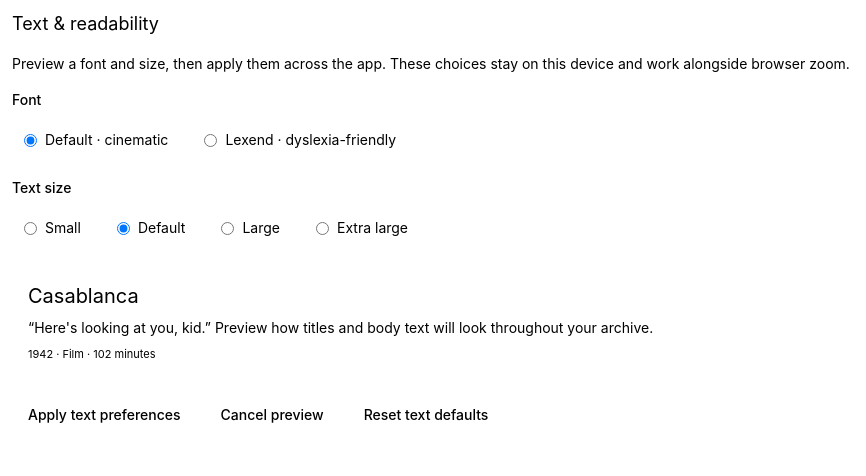
Scenario: text preference preview › scopes a draft to the preview and cancels without persisting
Click the radio button labelled "Lexend · dyslexia-friendly" at (211,140), box [204, 134, 217, 146]
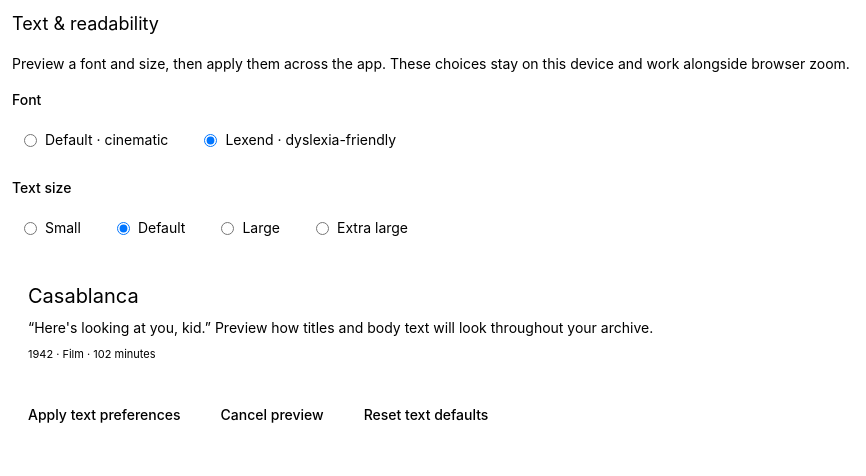
Click the radio button labelled "Extra large" at (322,228), box [316, 222, 329, 234]
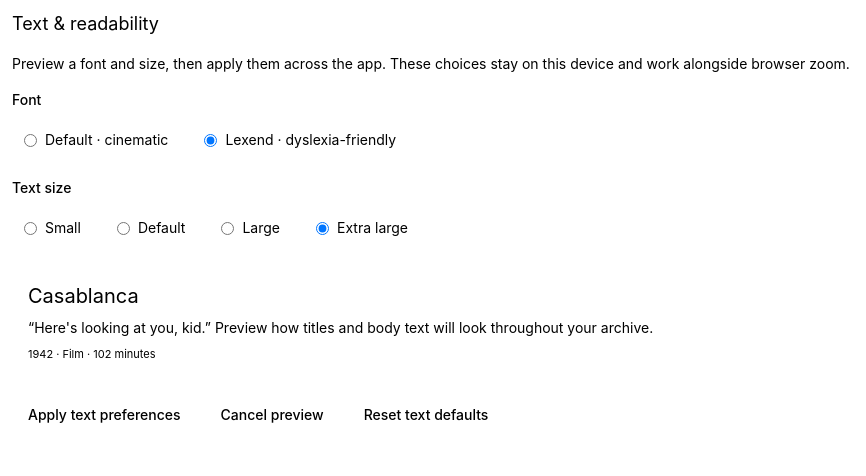
Click the button "Cancel preview" at (272,414), box [205, 394, 340, 434]
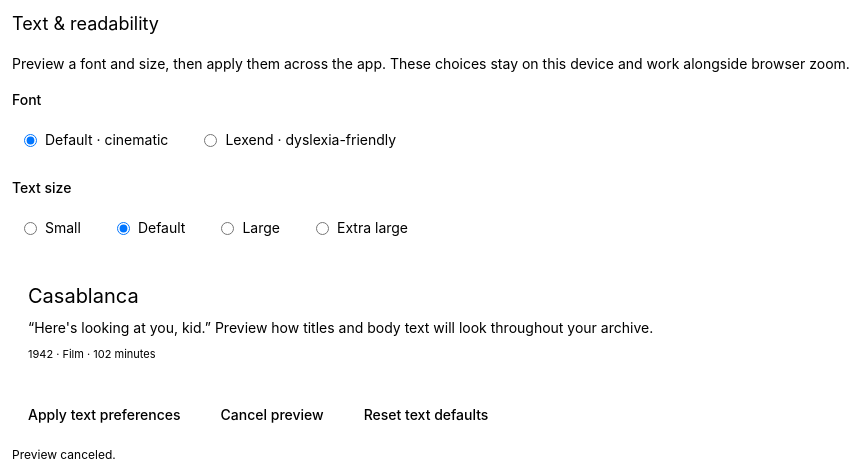
Now the radio button labelled "Default · cinematic" is checked, box [24, 134, 37, 146]
Now the radio button labelled "Default" is checked, box [117, 222, 130, 234]
